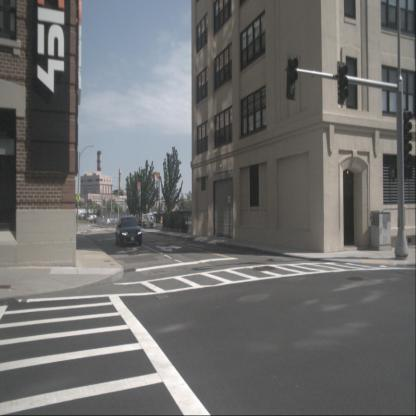vehicle-car: (115, 216, 142, 246), (87, 215, 96, 223)
vehicle-truck: (142, 214, 154, 226)
